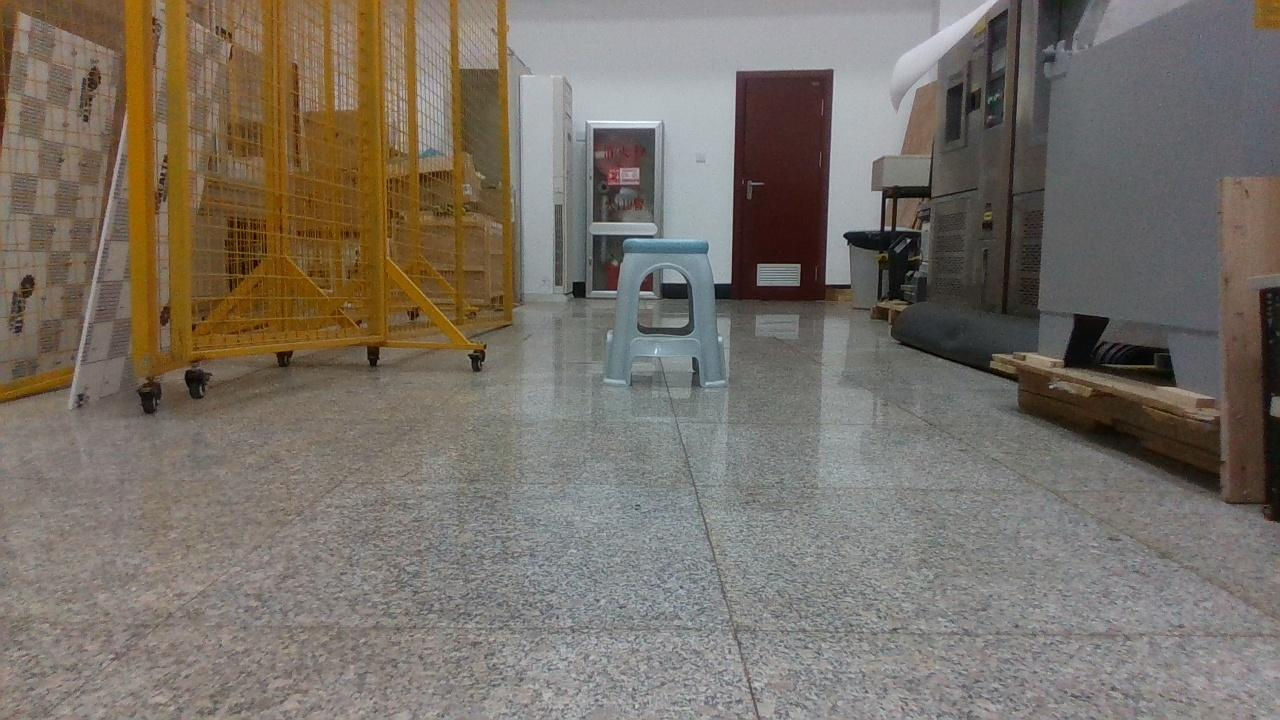stool: (605, 240, 728, 386)
